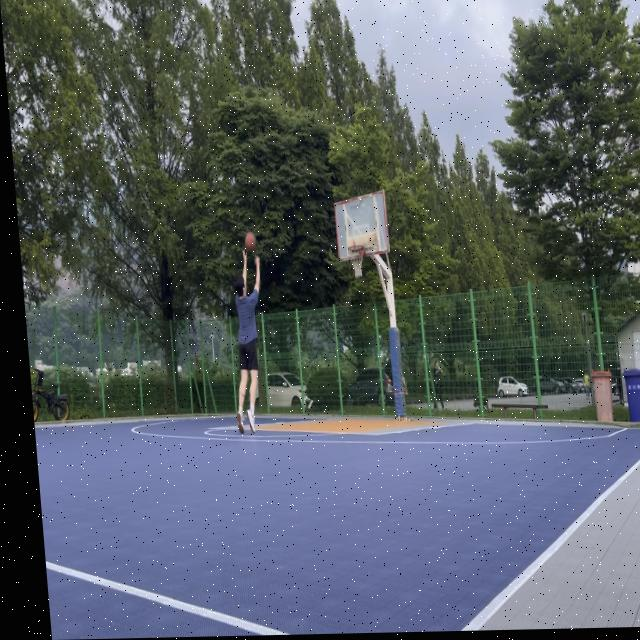basketball: (244, 231, 257, 253)
hoop: (347, 245, 367, 279)
